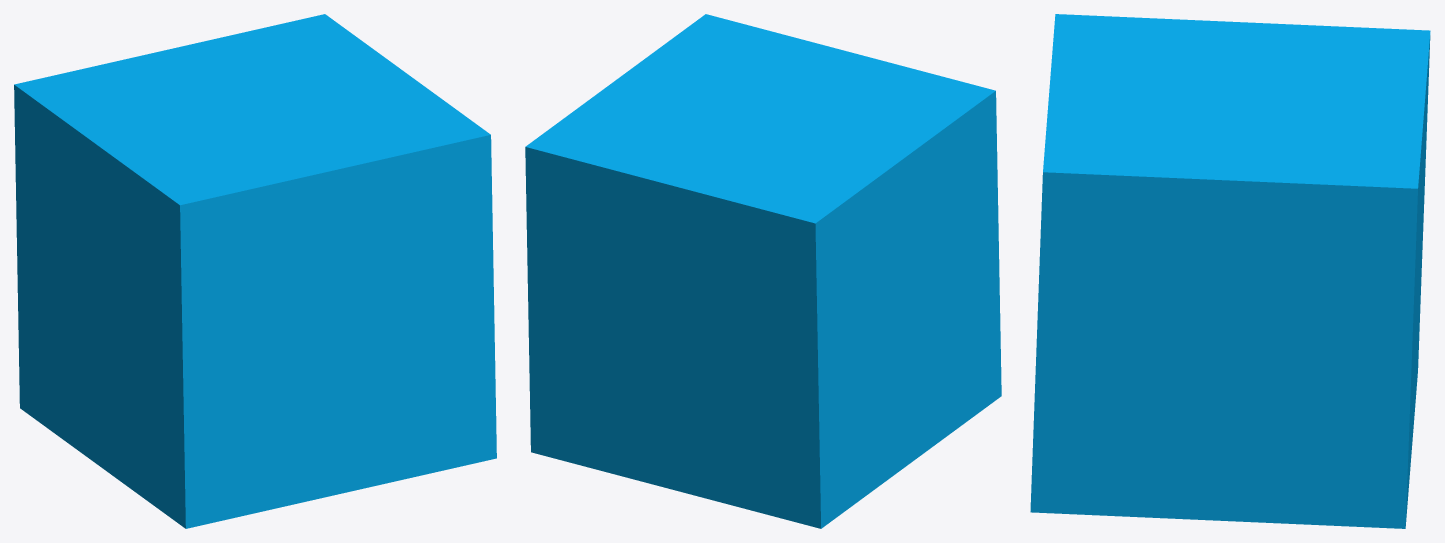
Rendered from darkroom.glb.
The picture shows the model from 3 angles, left to right: view 1: azimuth 30°, elevation 25°; view 2: azimuth 150°, elevation 25°; view 3: azimuth 270°, elevation 25°; orthographic projection. The views are drawn at different scales.
Bounding box in the file's own units: 1.03 × 1.03 × 1.07.
